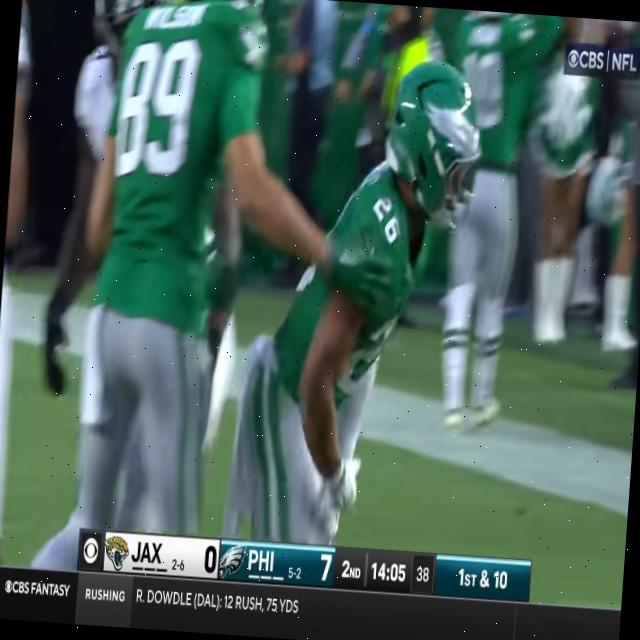Player: (236, 47, 468, 550), (75, 0, 248, 514)
